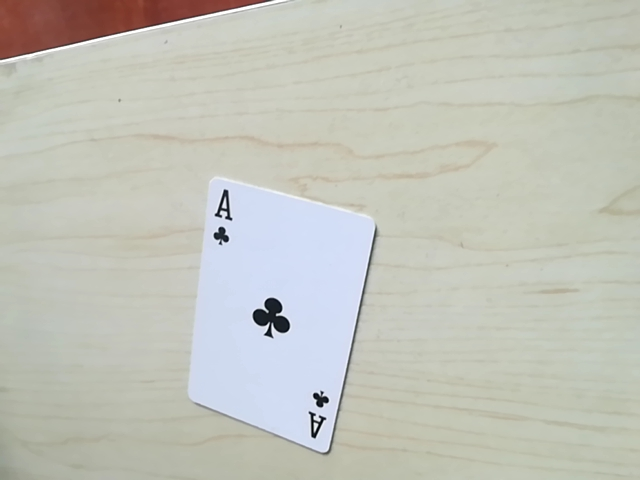mh a: (202, 180, 238, 261), (302, 383, 335, 455)
